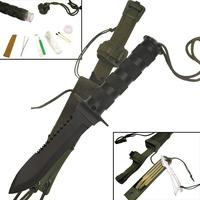knife: (8, 37, 168, 195)
